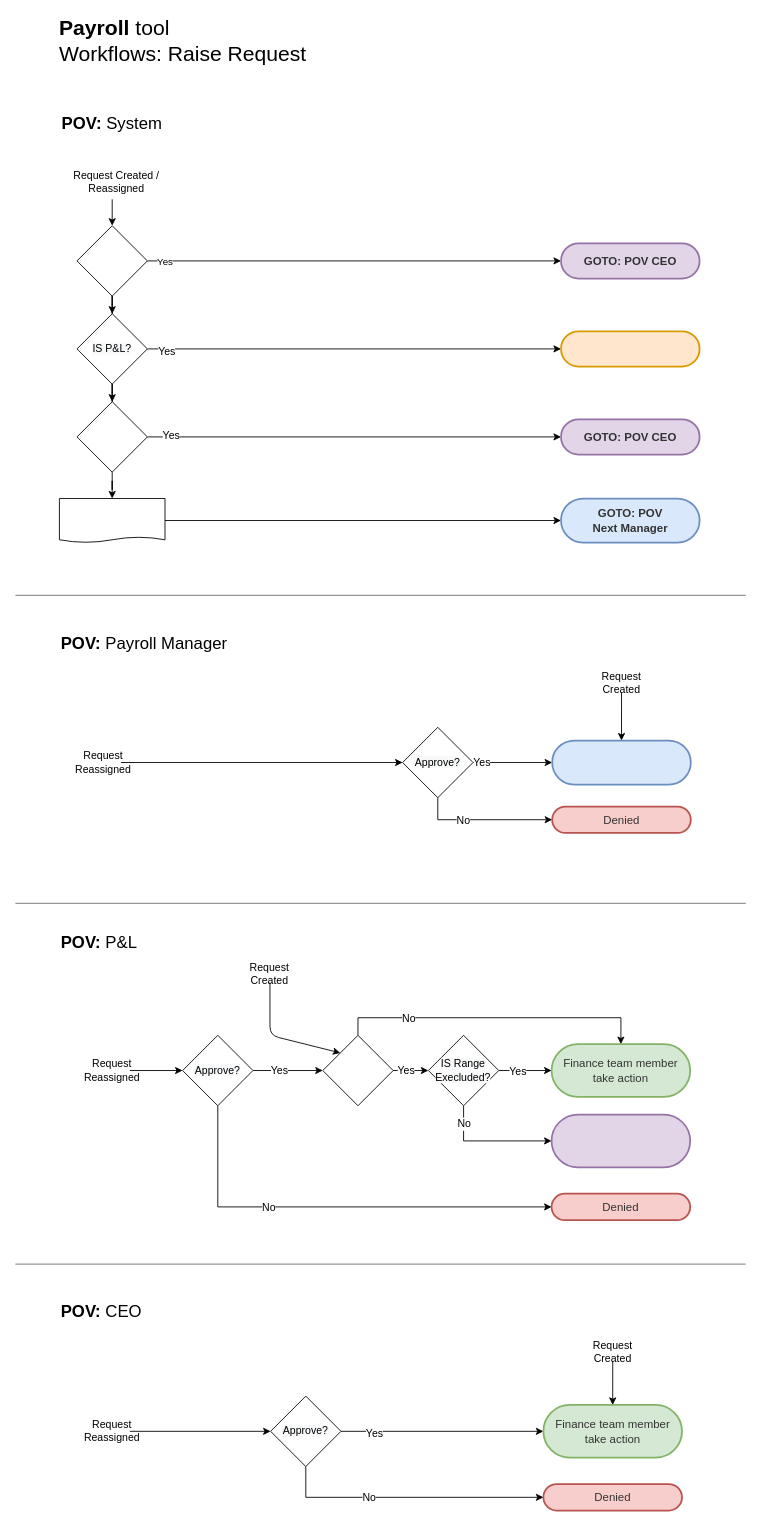
Image size: 762x1526. Some labels were removed from this diagram. Here are the shapes that lost their labels. From the top down, the centre of each, then its label:
At point (111, 260): "IS CEO?".
At point (630, 348): "GOTO: POV P&L".
At point (111, 436): "Reports to CEO?".
At point (112, 520): "Just a Payroll Manager".
At point (621, 762): "Escalate to next manager".
At point (357, 1070): "IS New Gross > Range?".
At point (620, 1140): "Escalate to CEO".
